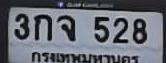2: (112, 17, 127, 42)
3: (13, 12, 28, 39)
5: (93, 16, 108, 42)
8: (132, 17, 146, 43)
A01: (33, 13, 51, 40)
A08: (56, 14, 75, 40)
BKK: (29, 49, 141, 63)
